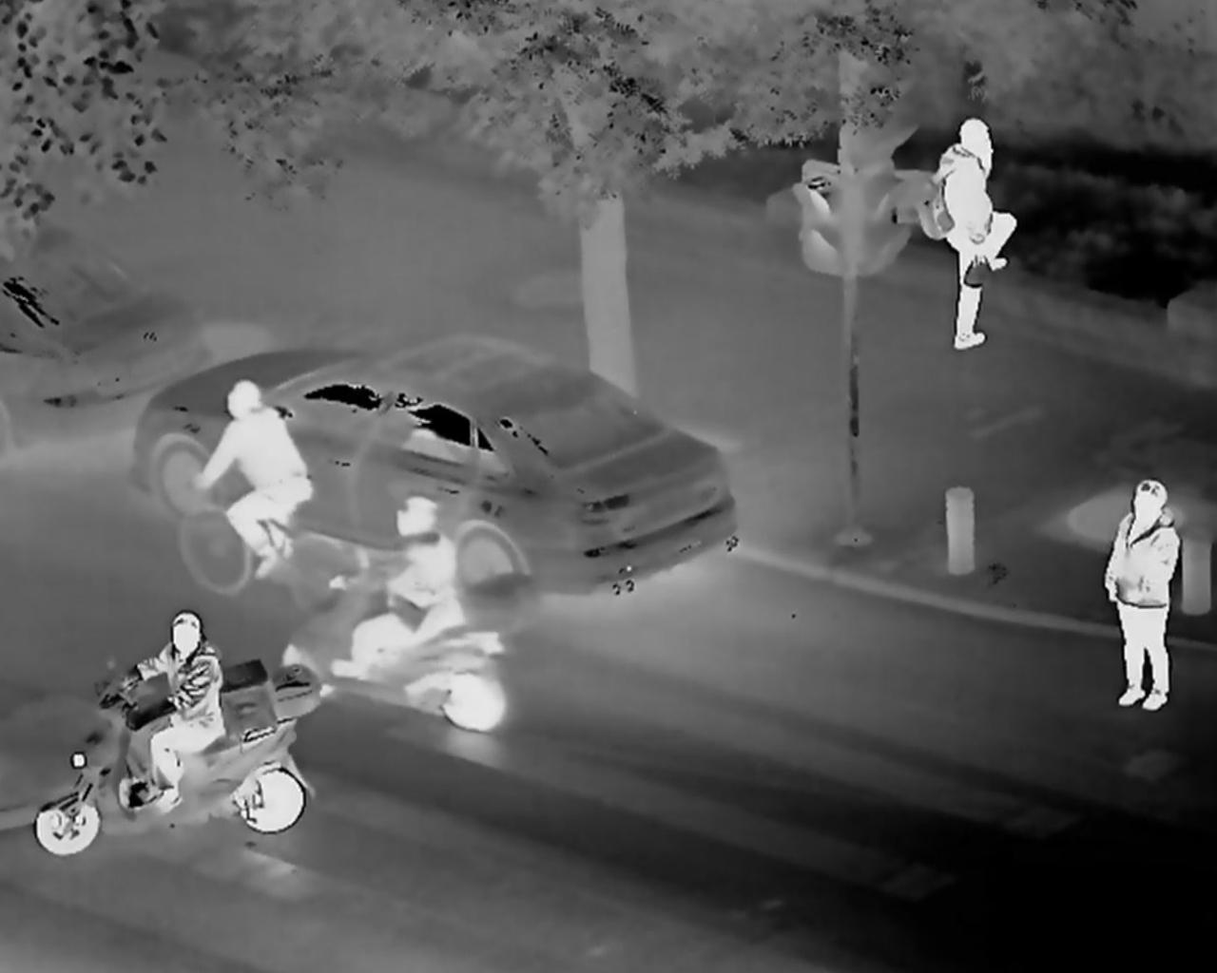person: (195, 378, 326, 567), (918, 114, 1023, 346), (1092, 476, 1192, 719), (122, 609, 241, 809), (357, 496, 479, 677)
